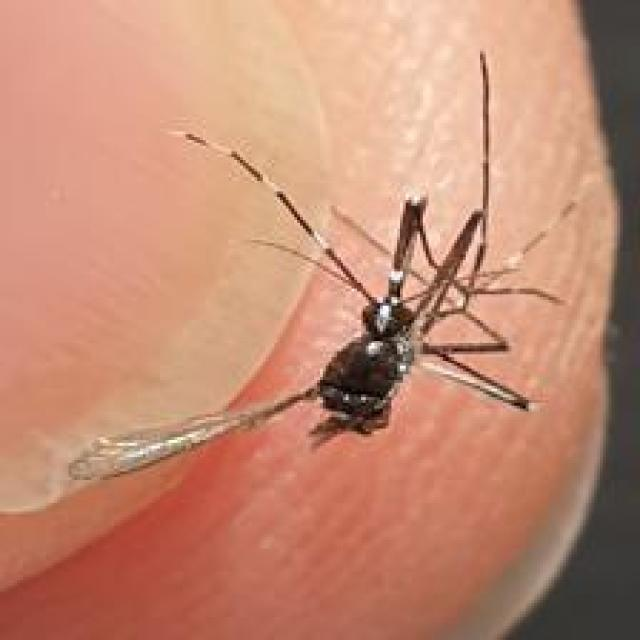Aedes albopictus: (67, 48, 576, 483)
